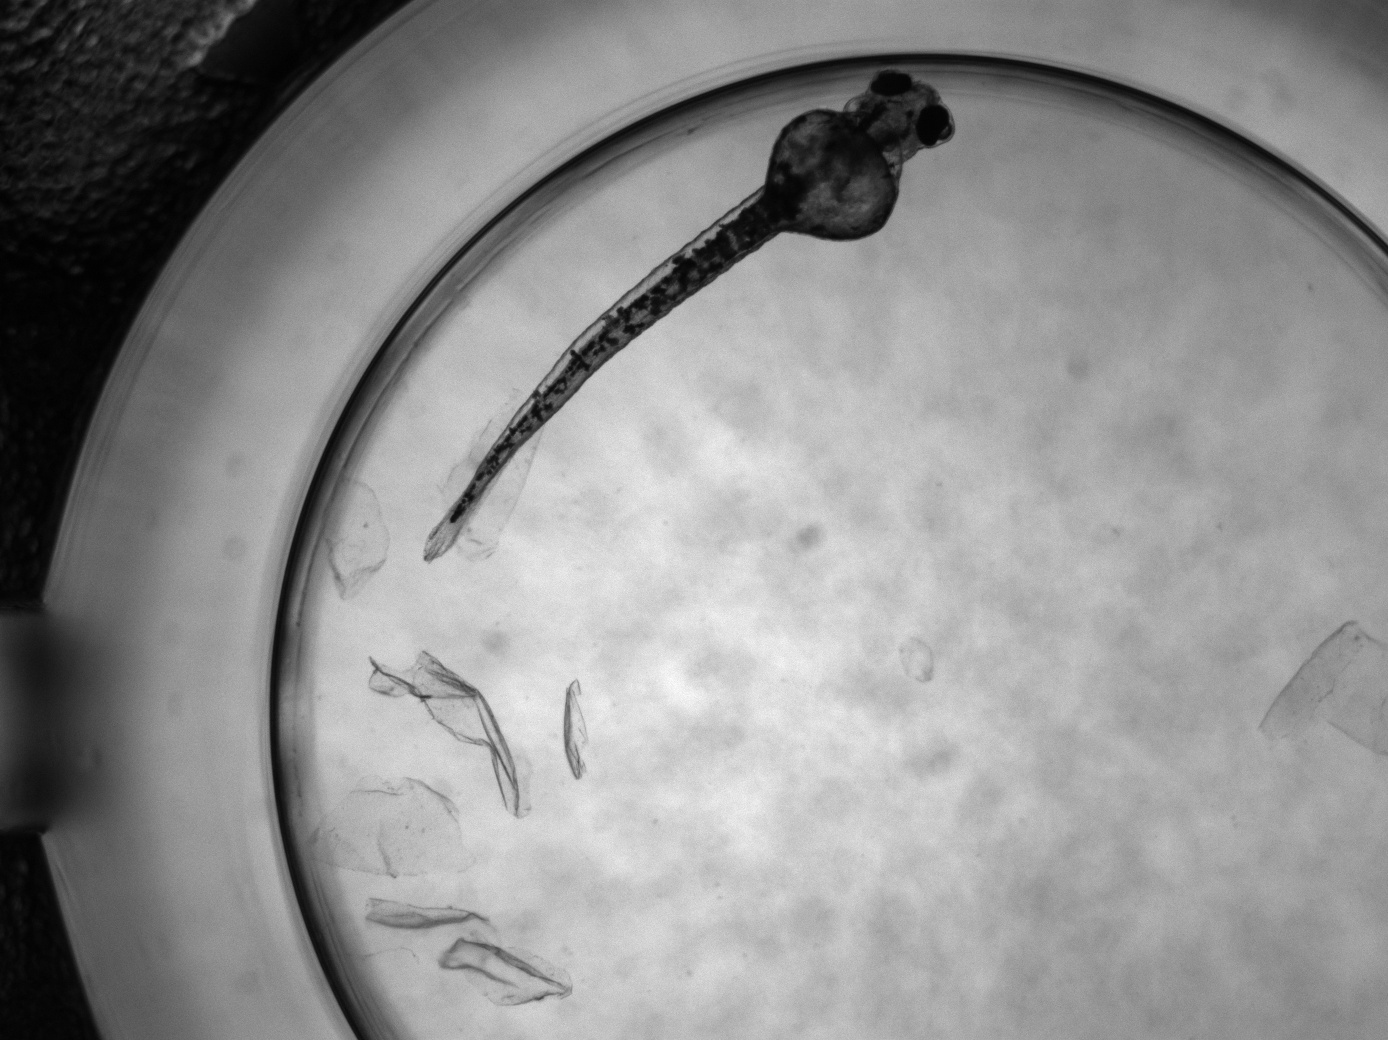debris: (367, 648, 533, 819), (363, 897, 576, 1008), (308, 773, 476, 881), (1259, 619, 1388, 757), (319, 478, 389, 600), (563, 677, 588, 778)
embryo: (425, 69, 956, 562)
eye: (916, 105, 954, 147), (870, 69, 913, 96)
yolksac: (766, 110, 898, 243)
